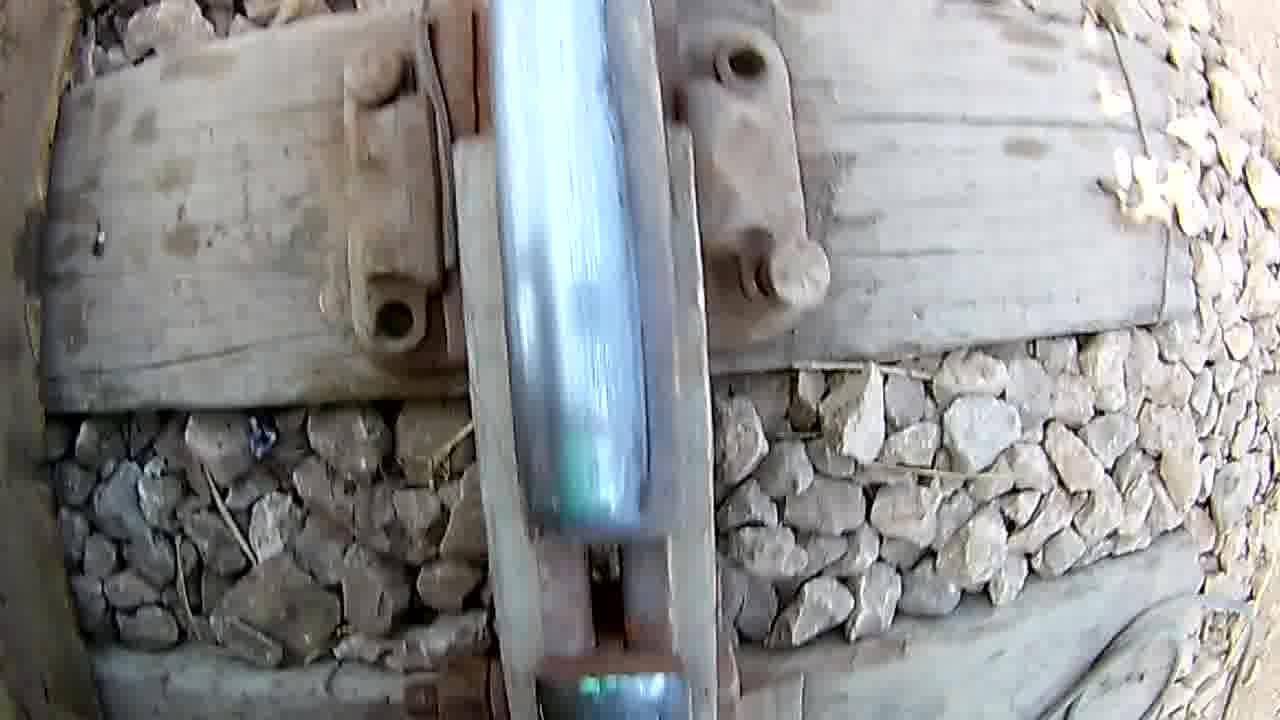crack: (502, 477, 696, 720)
